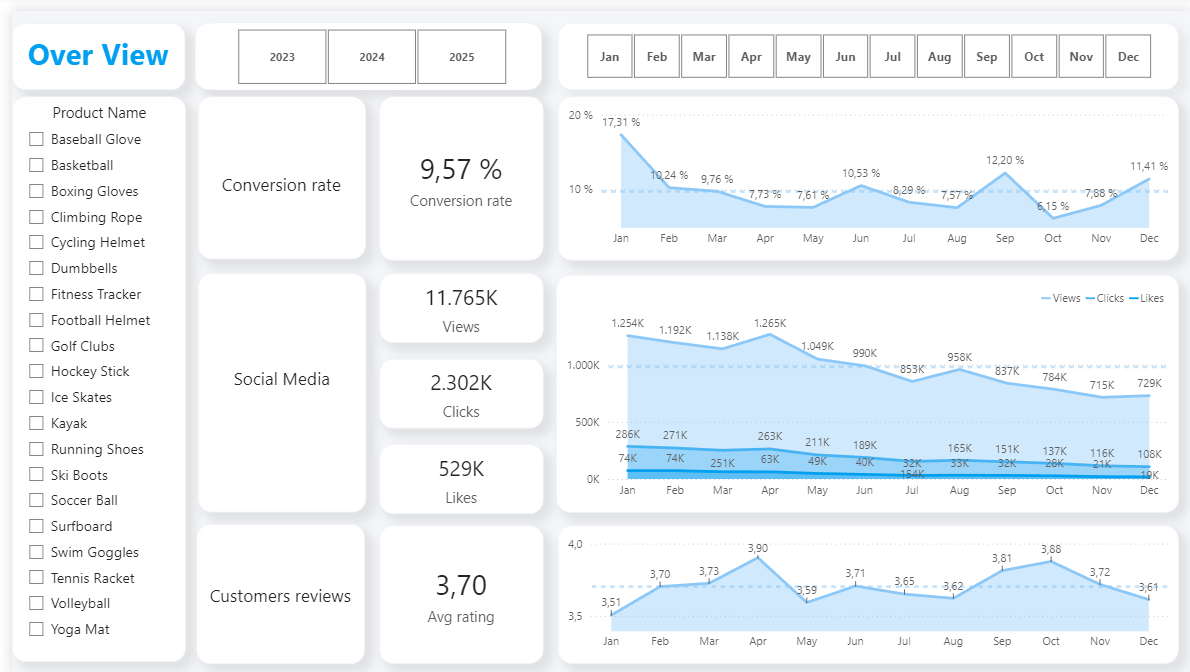

The dashboard page shown, as its layout file describes it:
{"tool":"powerbi","page":{"name":"Overview","canvas":[1280,720],"ordinal":0},"visuals":[{"type":"textbox","box":[0,13.2,188.1,72.9],"z":0},{"type":"slicer","title":"Product Name","fields":{"Values":["DIM_Products.ProductName"]},"box":[0,92.8,188.4,614.1],"z":1000},{"type":"textbox","box":[199,13.3,376.7,73],"z":2000},{"type":"slicer","fields":{"Values":["Calendar.Date.Variation.Date Hierarchy.Year"]},"box":[219.9,13.2,340.4,72.9],"z":3000},{"type":"slicer","fields":{"Values":["Calendar.MonthNameShort"]},"box":[592.9,13.3,673.8,73],"z":4000},{"type":"textbox","box":[201.6,92.8,181.7,176.4],"z":5000},{"type":"textbox","box":[202.4,285.7,182.9,259.6],"z":6000},{"type":"textbox","box":[200.8,556.7,182.9,151.8],"z":7000},{"type":"card","fields":{"Values":["Measures (3).Conversion rate"]},"box":[398.4,93.1,178,178],"z":8000},{"type":"card","fields":{"Values":["Measures (3).Views"]},"box":[398.4,285.7,178,75.1],"z":9000},{"type":"card","fields":{"Values":["Measures (3).Clicks"]},"box":[398.4,378.8,178,75.1],"z":10000},{"type":"card","fields":{"Values":["Measures (3).Likes"]},"box":[398.4,470.2,178,75.1],"z":11000},{"type":"card","fields":{"Values":["Measures (3).Avg rating"]},"box":[398.4,558.4,178,150.2],"z":12000},{"type":"lineChart","fields":{"Y":["Measures (3).Conversion rate"],"Category":["Calendar.MonthNameShort"]},"box":[592.7,93.1,674.3,178],"z":13000},{"type":"lineChart","fields":{"Y":["Measures (3).Views","Measures (3).Clicks","Measures (3).Likes"],"Category":["Calendar.MonthNameShort"]},"box":[591,287.3,675.9,258],"z":14000},{"type":"lineChart","fields":{"Y":["Measures (3).Avg rating"],"Category":["Calendar.MonthNameShort"]},"box":[592.7,558.4,674.3,150.2],"z":15000}]}

Visuals, with their boxes in screenshot pixels (x1, y1, x2, y2), scaled from the page's 1280x720 canvas onto the 1190x672 screenshot:
textbox: {"x1": 0, "y1": 12, "x2": 175, "y2": 80}
"Product Name" slicer: {"x1": 0, "y1": 87, "x2": 175, "y2": 660}
textbox: {"x1": 185, "y1": 12, "x2": 535, "y2": 81}
slicer - Calendar.Date.Variation.Date Hierarchy.Year: {"x1": 204, "y1": 12, "x2": 521, "y2": 80}
slicer - Calendar.MonthNameShort: {"x1": 551, "y1": 12, "x2": 1178, "y2": 81}
textbox: {"x1": 187, "y1": 87, "x2": 356, "y2": 251}
textbox: {"x1": 188, "y1": 267, "x2": 358, "y2": 509}
textbox: {"x1": 187, "y1": 520, "x2": 357, "y2": 661}
card - Measures (3).Conversion rate: {"x1": 370, "y1": 87, "x2": 536, "y2": 253}
card - Measures (3).Views: {"x1": 370, "y1": 267, "x2": 536, "y2": 337}
card - Measures (3).Clicks: {"x1": 370, "y1": 354, "x2": 536, "y2": 424}
card - Measures (3).Likes: {"x1": 370, "y1": 439, "x2": 536, "y2": 509}
card - Measures (3).Avg rating: {"x1": 370, "y1": 521, "x2": 536, "y2": 661}
lineChart - Measures (3).Conversion rate x Calendar.MonthNameShort: {"x1": 551, "y1": 87, "x2": 1178, "y2": 253}
lineChart - Measures (3).Views x Measures (3).Clicks: {"x1": 549, "y1": 268, "x2": 1178, "y2": 509}
lineChart - Measures (3).Avg rating x Calendar.MonthNameShort: {"x1": 551, "y1": 521, "x2": 1178, "y2": 661}
